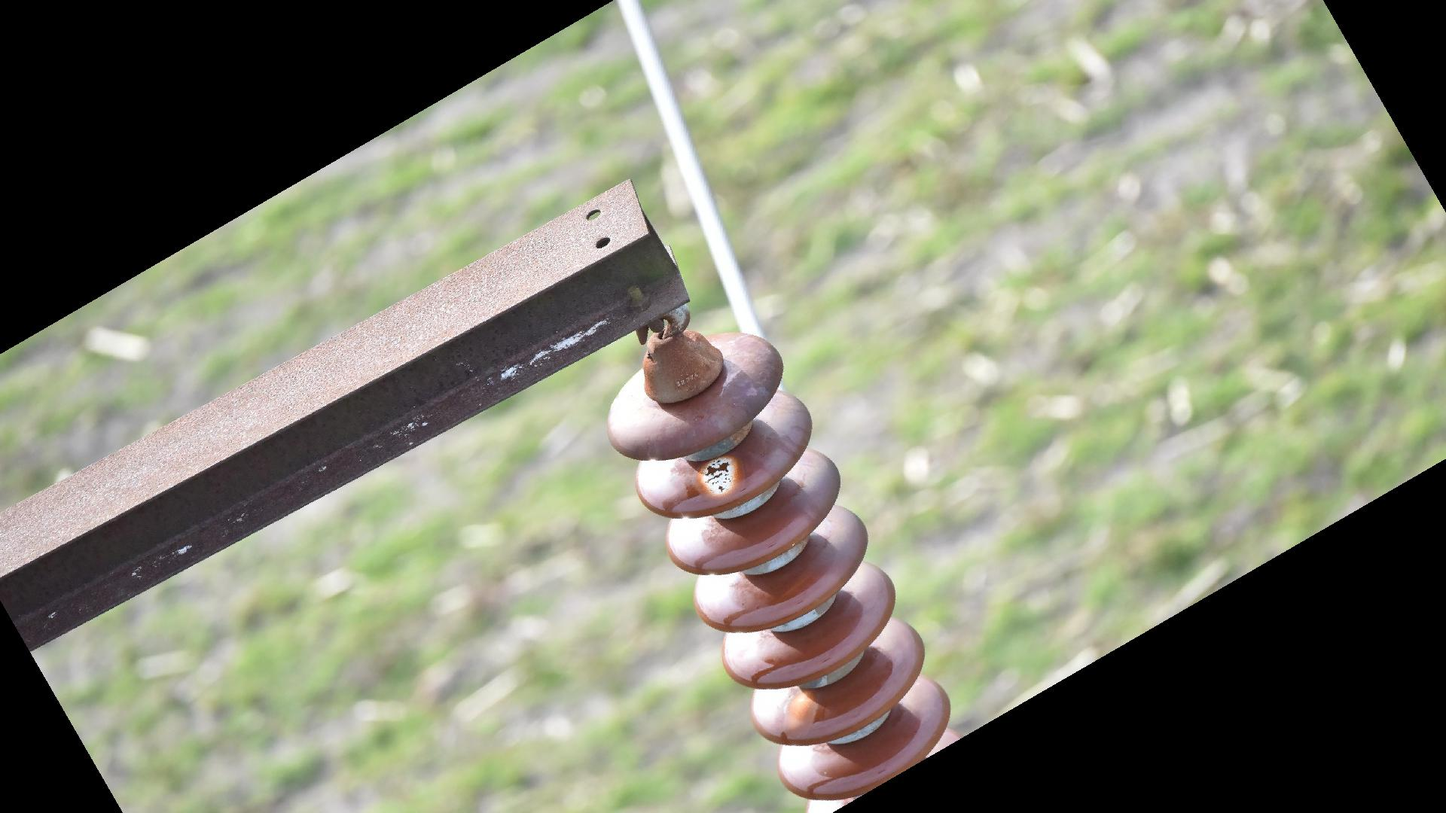insulator: (602, 325, 967, 813)
insulator_flashover: (779, 687, 825, 742), (697, 452, 743, 502)
